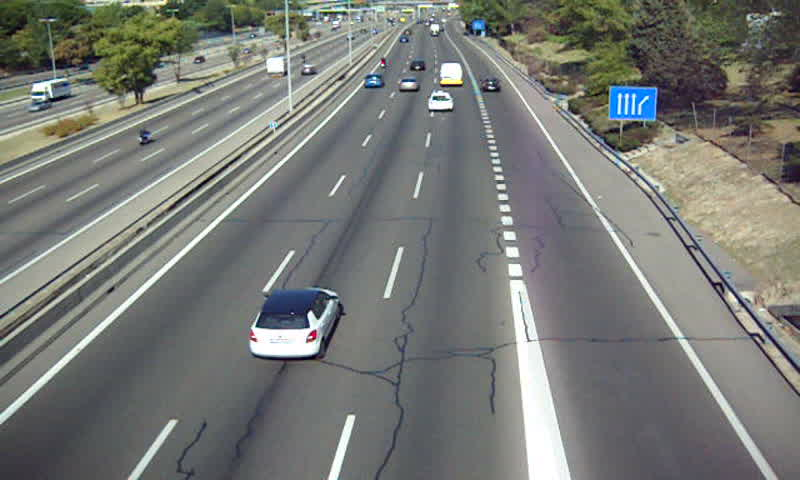car: (249, 289, 341, 357), (426, 91, 455, 112), (398, 77, 419, 93), (363, 75, 382, 91), (479, 78, 500, 92)
van: (438, 64, 463, 87)
